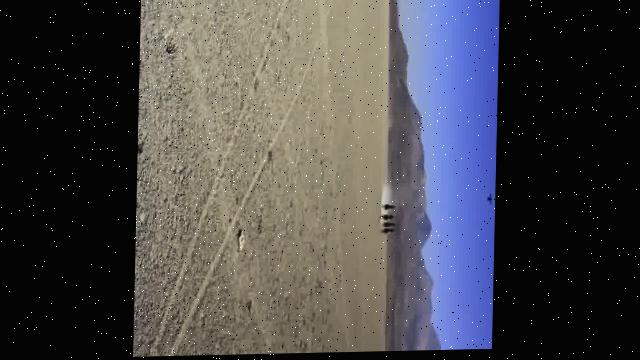drone: (485, 194, 494, 209)
